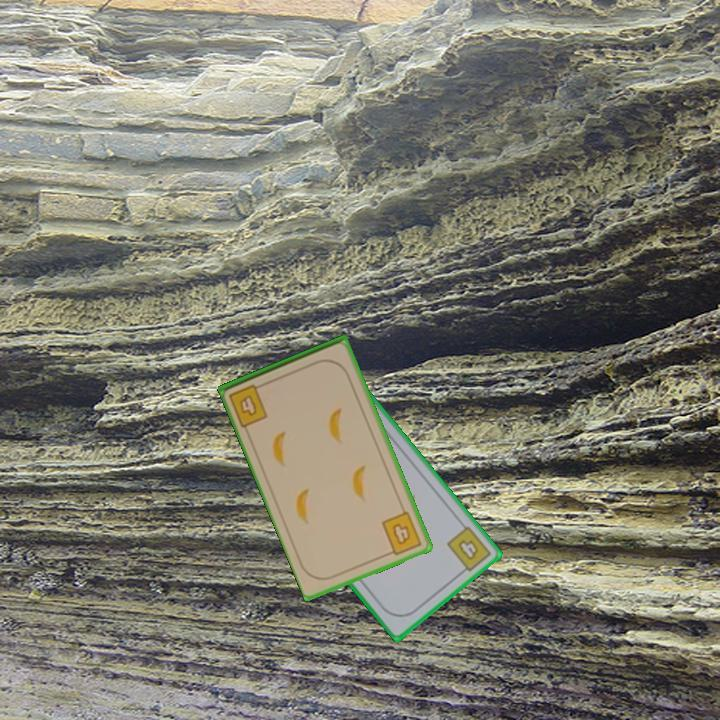4b: (443, 522, 494, 578), (378, 508, 425, 559), (225, 380, 271, 430)
